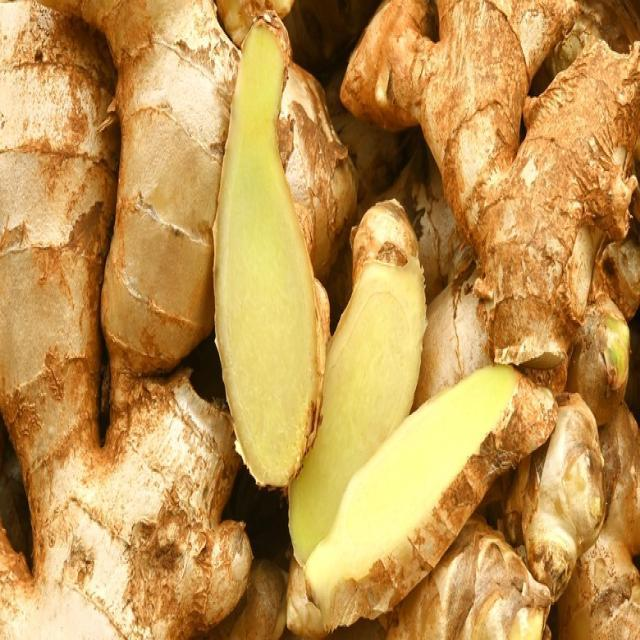ginger: (230, 16, 620, 612), (5, 15, 219, 618)
